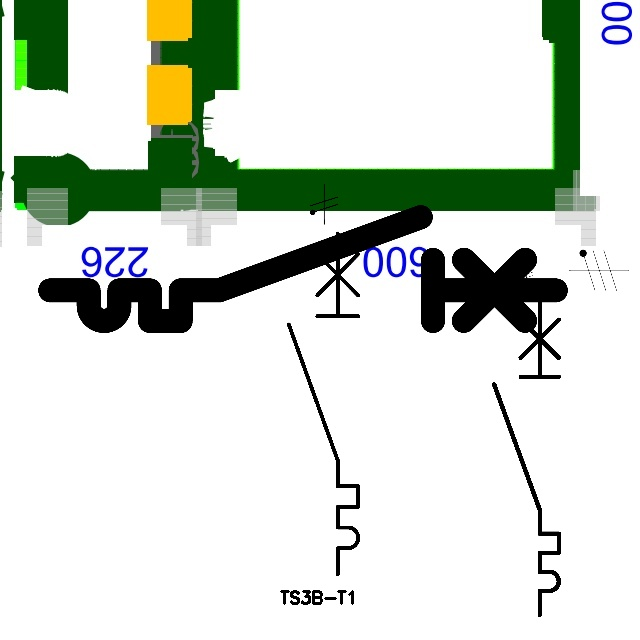interruptor_termomagnetico: (37, 204, 569, 334), (280, 224, 367, 582), (486, 292, 567, 622)
